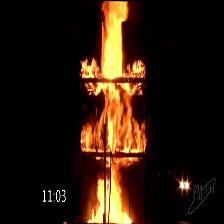fire: (91, 0, 134, 220)
